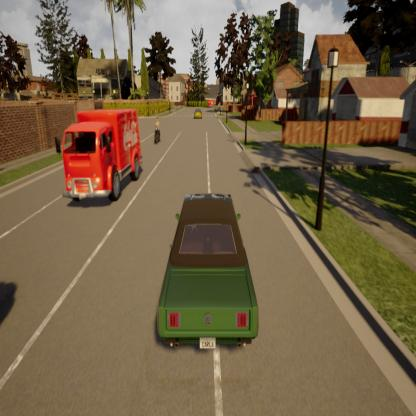Cars: (149, 187, 261, 364), (55, 102, 142, 215)
